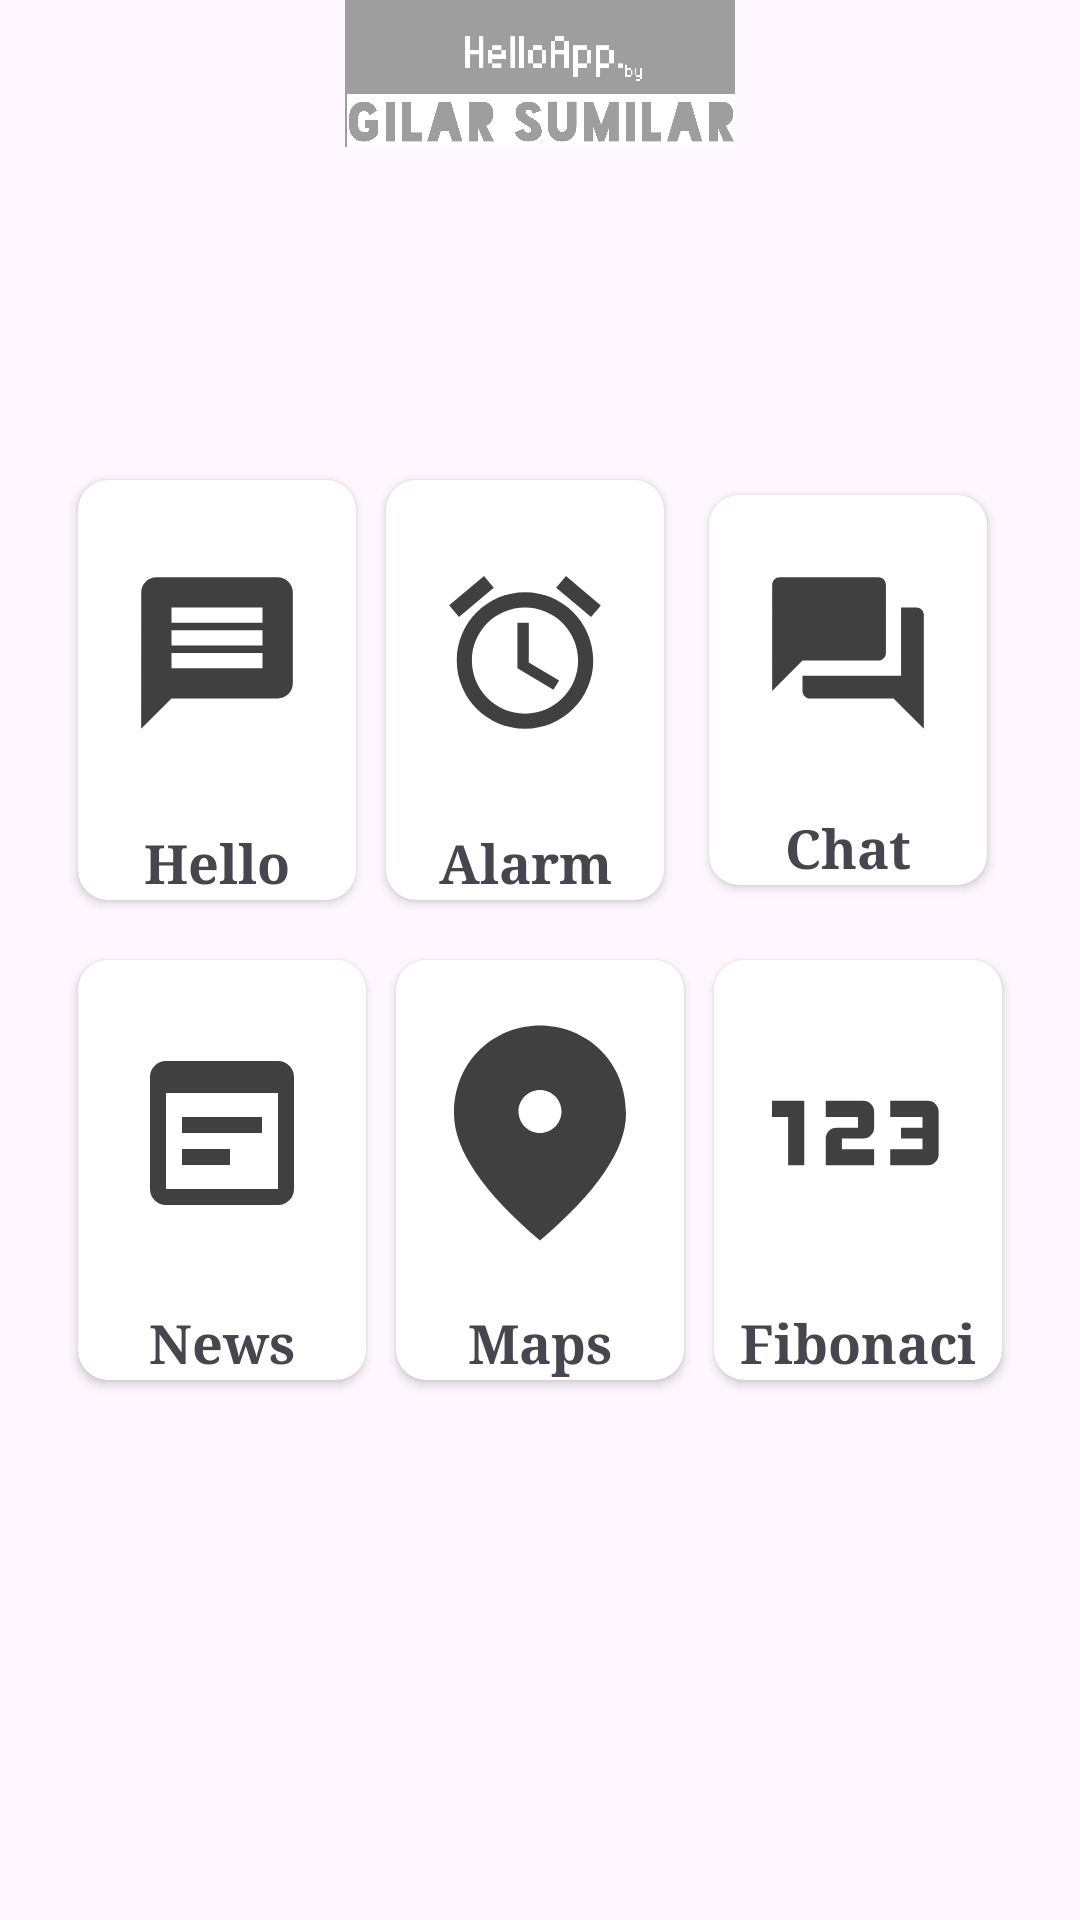

Named icons in this screenshot (1080×1920) and their centers, point (x, y):
fmd good: point (540, 1133)
forum: point (848, 653)
message: point (217, 653)
wysiwyg: point (222, 1133)
